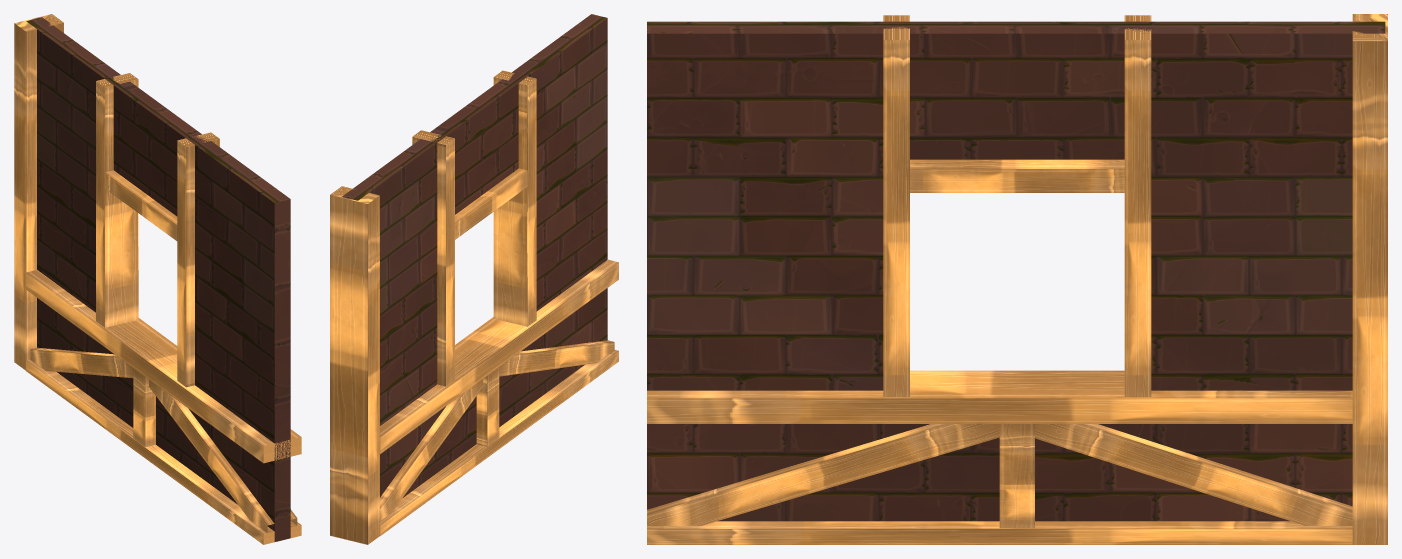
File: SM_Window_Wall_04.fbx
3 renders of one model, left to right at view 1: azimuth 30°, elevation 25°; view 2: azimuth 150°, elevation 25°; view 3: azimuth 270°, elevation 25°, orthographic. The views are drawn at different scales.
Parts seen in each view (by area): view 1: SM_Window_Wall_04; view 2: SM_Window_Wall_04; view 3: SM_Window_Wall_04.
Part boxes in pixels (bbox=[...]): SM_Window_Wall_04: bbox=[14, 14, 301, 544]; SM_Window_Wall_04: bbox=[330, 14, 618, 544]; SM_Window_Wall_04: bbox=[647, 14, 1387, 544].
Size of the model in its own units: 37.36 by 300 by 400.
